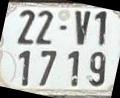-: (59, 25, 67, 29)
1: (68, 51, 79, 87), (95, 11, 106, 45), (19, 51, 29, 85)
2: (18, 10, 33, 44), (37, 11, 52, 44)
7: (40, 51, 57, 85)
9: (90, 52, 105, 86)
V: (75, 11, 88, 44)
